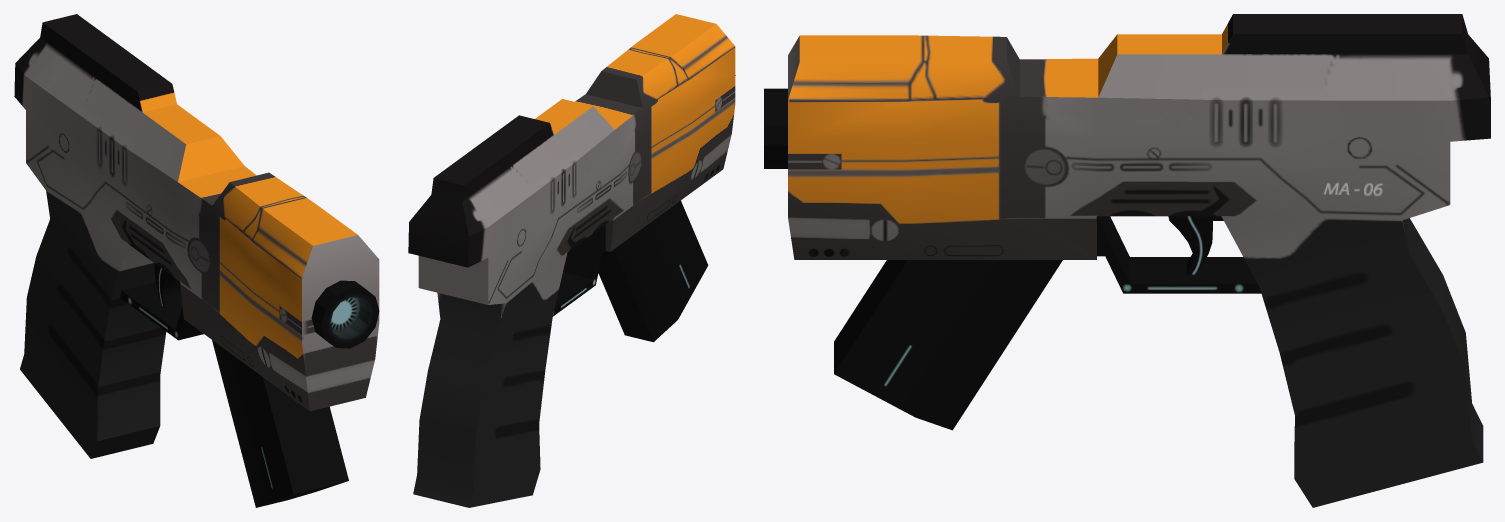
Rendered from Pistol_5.fbx.
3 views of the same model, side by side, from view 1: azimuth 30°, elevation 25°; view 2: azimuth 150°, elevation 25°; view 3: azimuth 270°, elevation 25° (orthographic). The views are drawn at different scales.
Parts seen in each view (by area): view 1: Pistol_1; view 2: Pistol_1; view 3: Pistol_1.
Part boxes in pixels (x1,y1,x2,y2): Pistol_1: (14,14,379,507); Pistol_1: (408,14,735,507); Pistol_1: (764,14,1490,507).
Size of the model in its own units: 44.25 by 212 by 300.
1 material, 1 textured.
